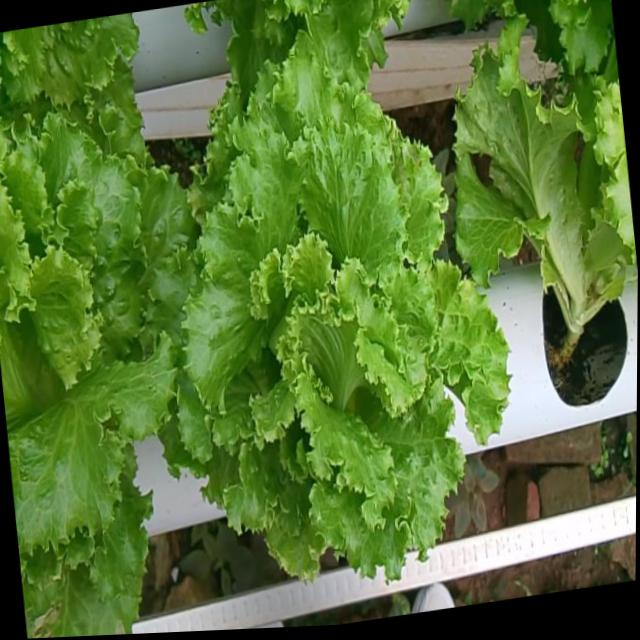Mature: (174, 68, 506, 596), (0, 126, 192, 574)
